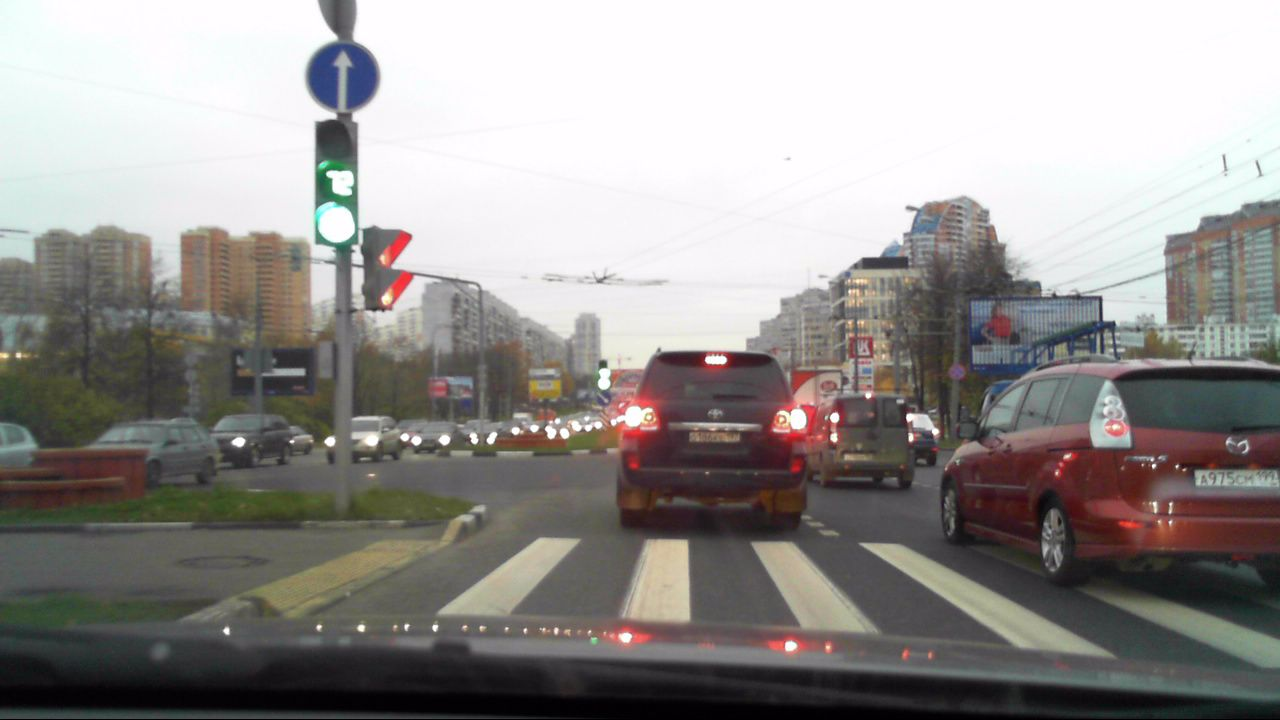No Parking: (947, 363, 966, 380)
